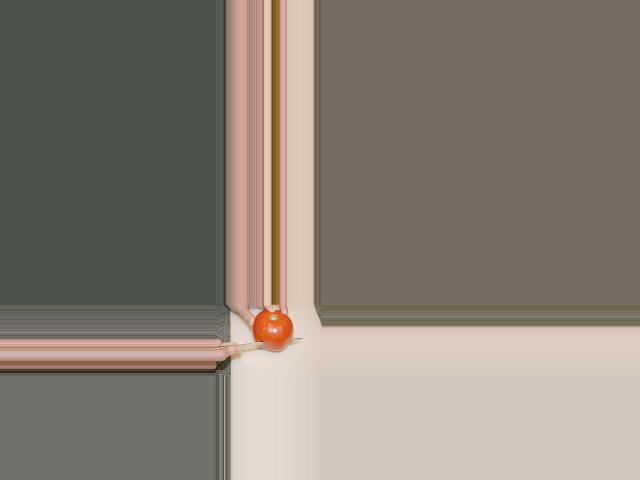tomato: (252, 309, 294, 351)
